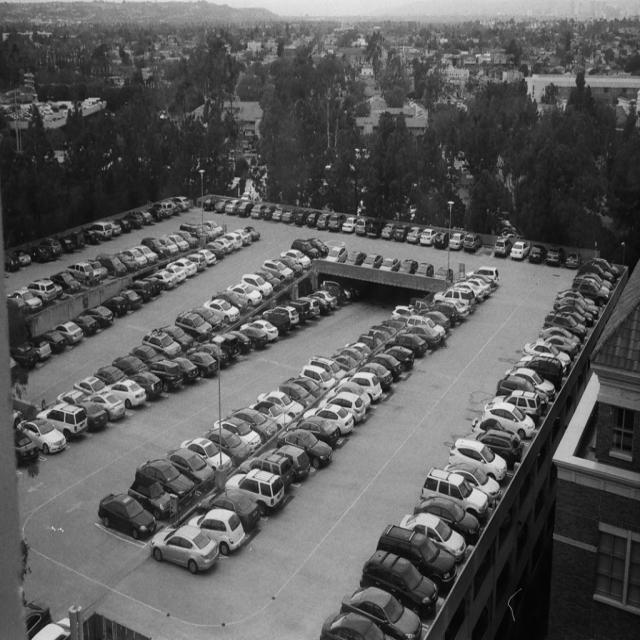car: (491, 234, 511, 257)
